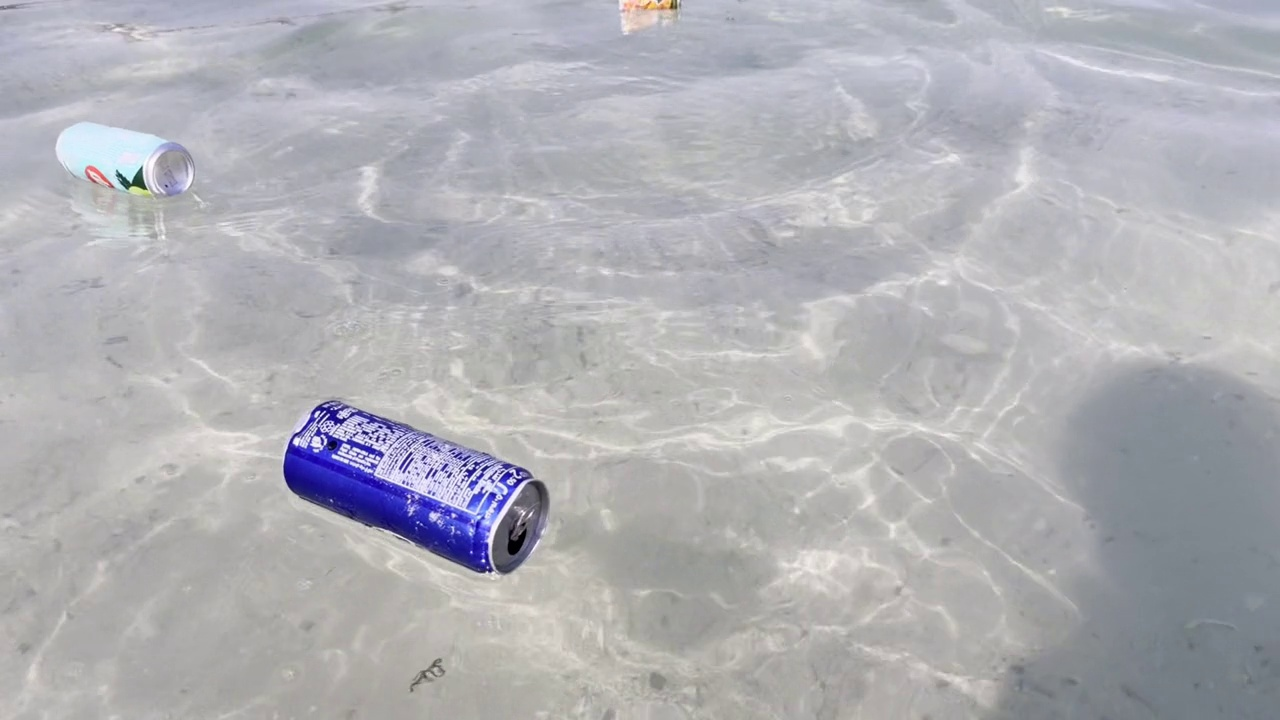debris: (279, 390, 562, 585), (47, 119, 197, 203), (615, 0, 684, 16)
